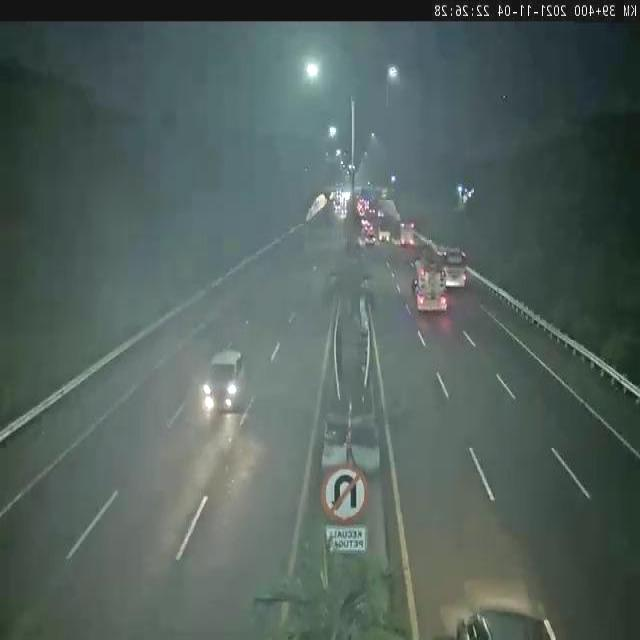Bus: (438, 245, 472, 292)
Car: (446, 600, 574, 640), (364, 232, 377, 248)
Truck: (410, 255, 444, 316), (395, 216, 422, 250), (378, 224, 394, 244)
Van: (198, 344, 252, 418)
